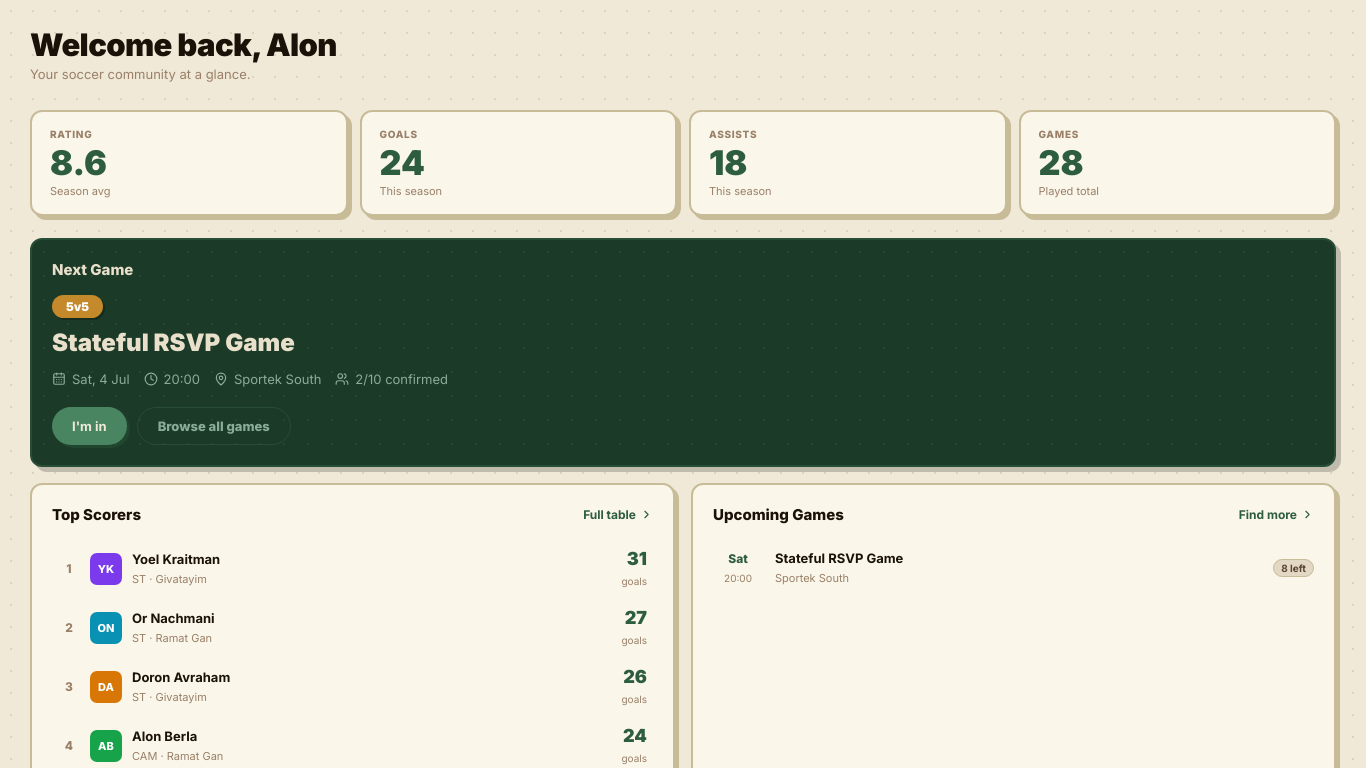
Test: RSVP flow › lets a user join and leave a dashboard game
Click the button "I'm in" at (89, 426), box [52,407,127,445]
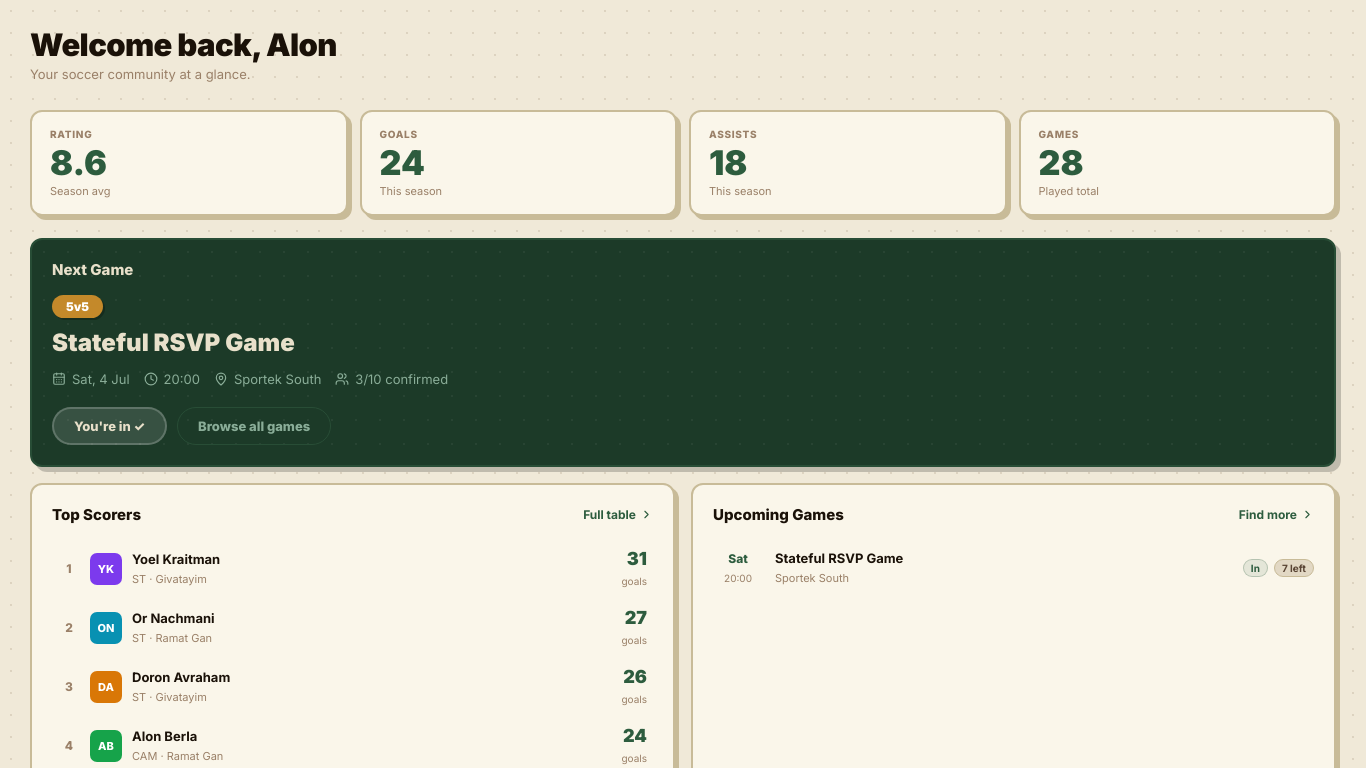
Now the button "You're in ✓" is shown
Click the button "You're in ✓" at (110, 426), box [52,407,167,445]
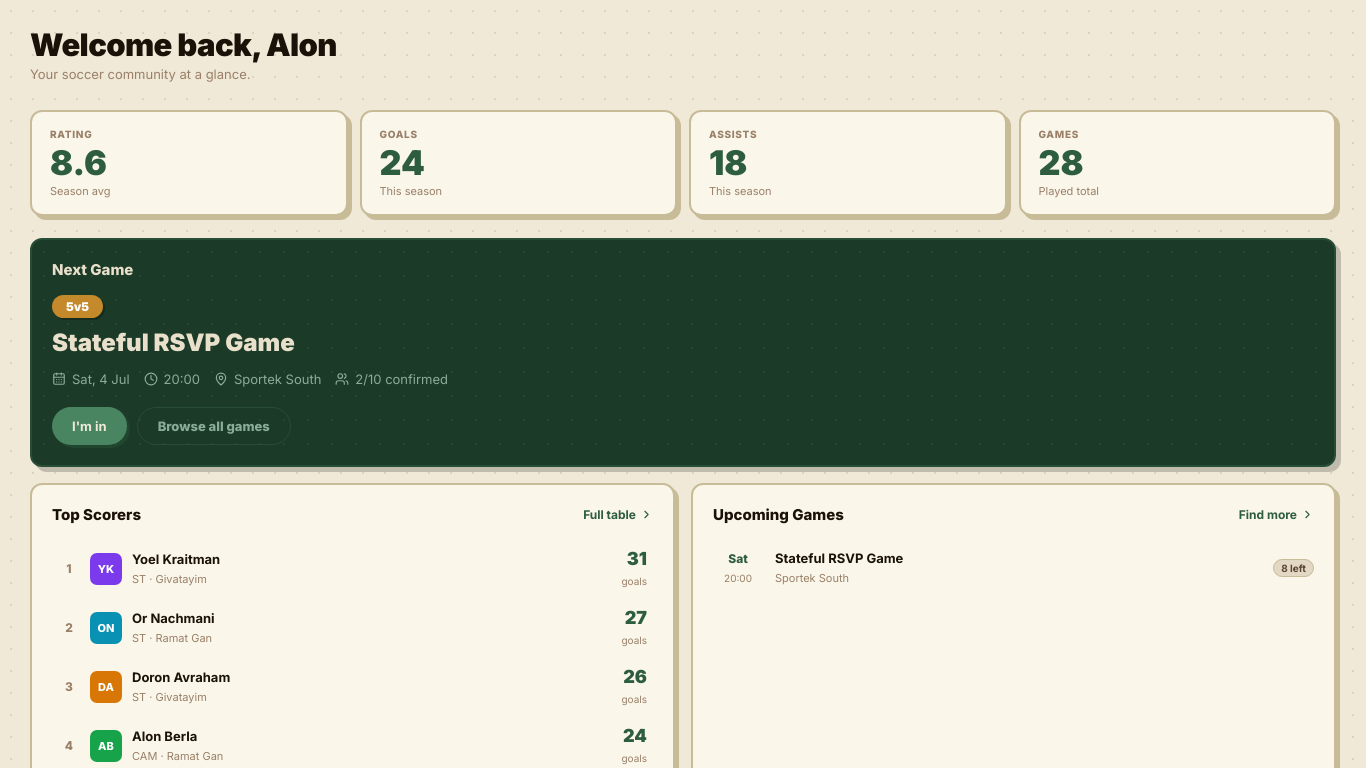
Now the button "I'm in" is shown, box [52,407,127,445]
